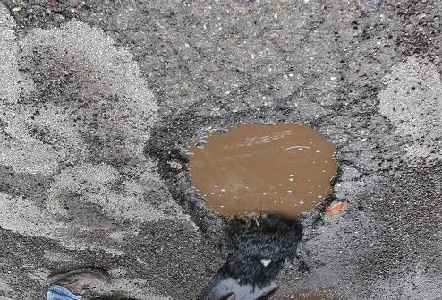pothole: (142, 98, 348, 249)
